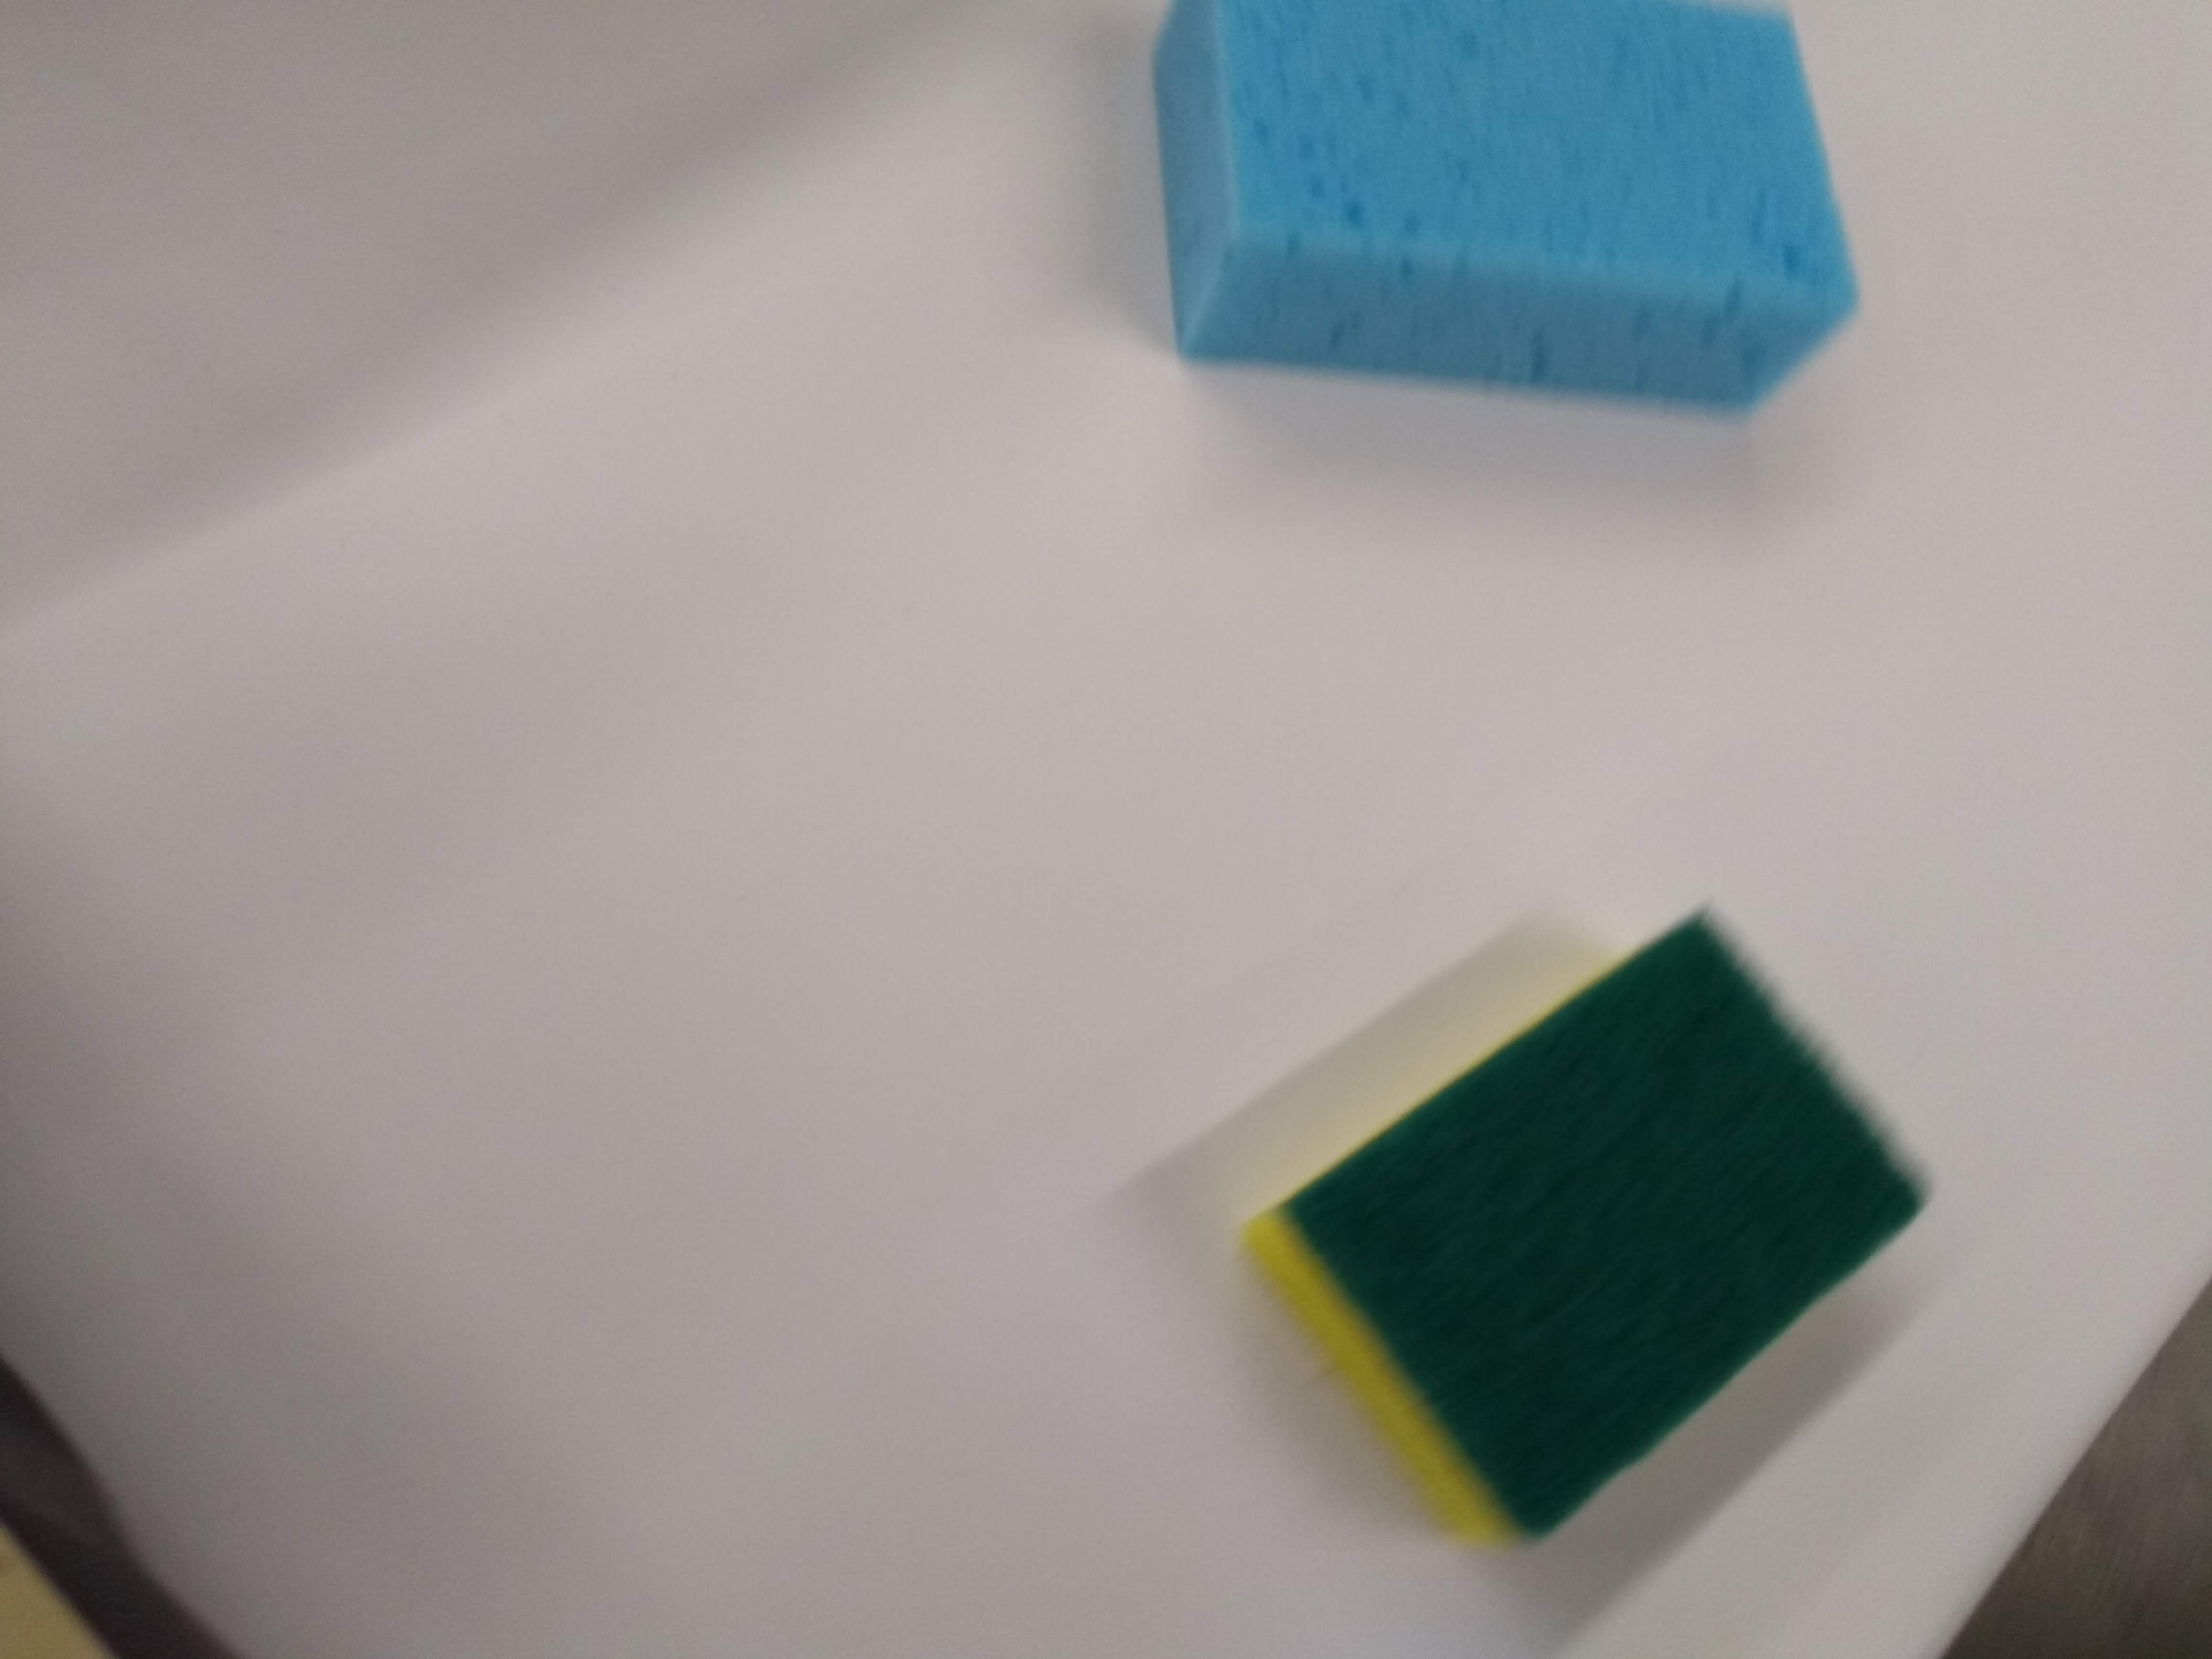scrubby: (1230, 894, 1935, 1549)
